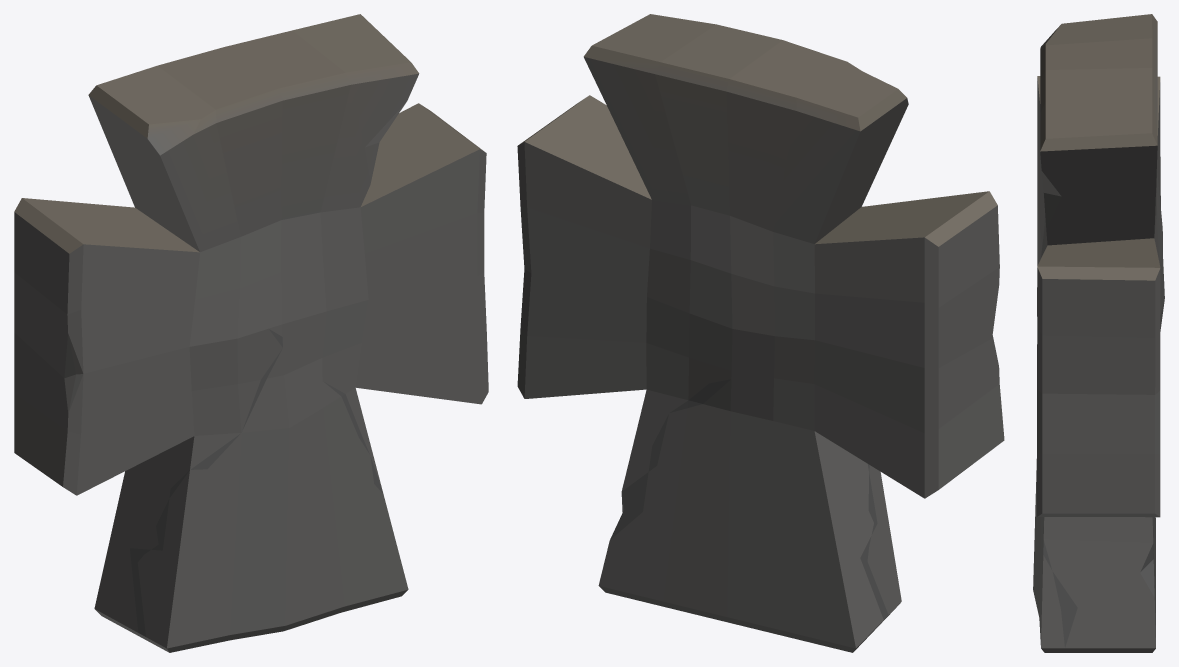
File: stone_cross.fbx
3 views of the same model, side by side, from view 1: azimuth 30°, elevation 25°; view 2: azimuth 150°, elevation 25°; view 3: azimuth 270°, elevation 25° (orthographic). The views are drawn at different scales.
Visible parts, largest first — view 1: stone cross; view 2: stone cross; view 3: stone cross.
Boxes of the visible parts, x1,y1,x2,y2 form: stone cross: (14, 14, 488, 652); stone cross: (517, 14, 1004, 652); stone cross: (1033, 14, 1164, 652).
Size of the model in its own units: 1.89 by 2.29 by 0.5182.
